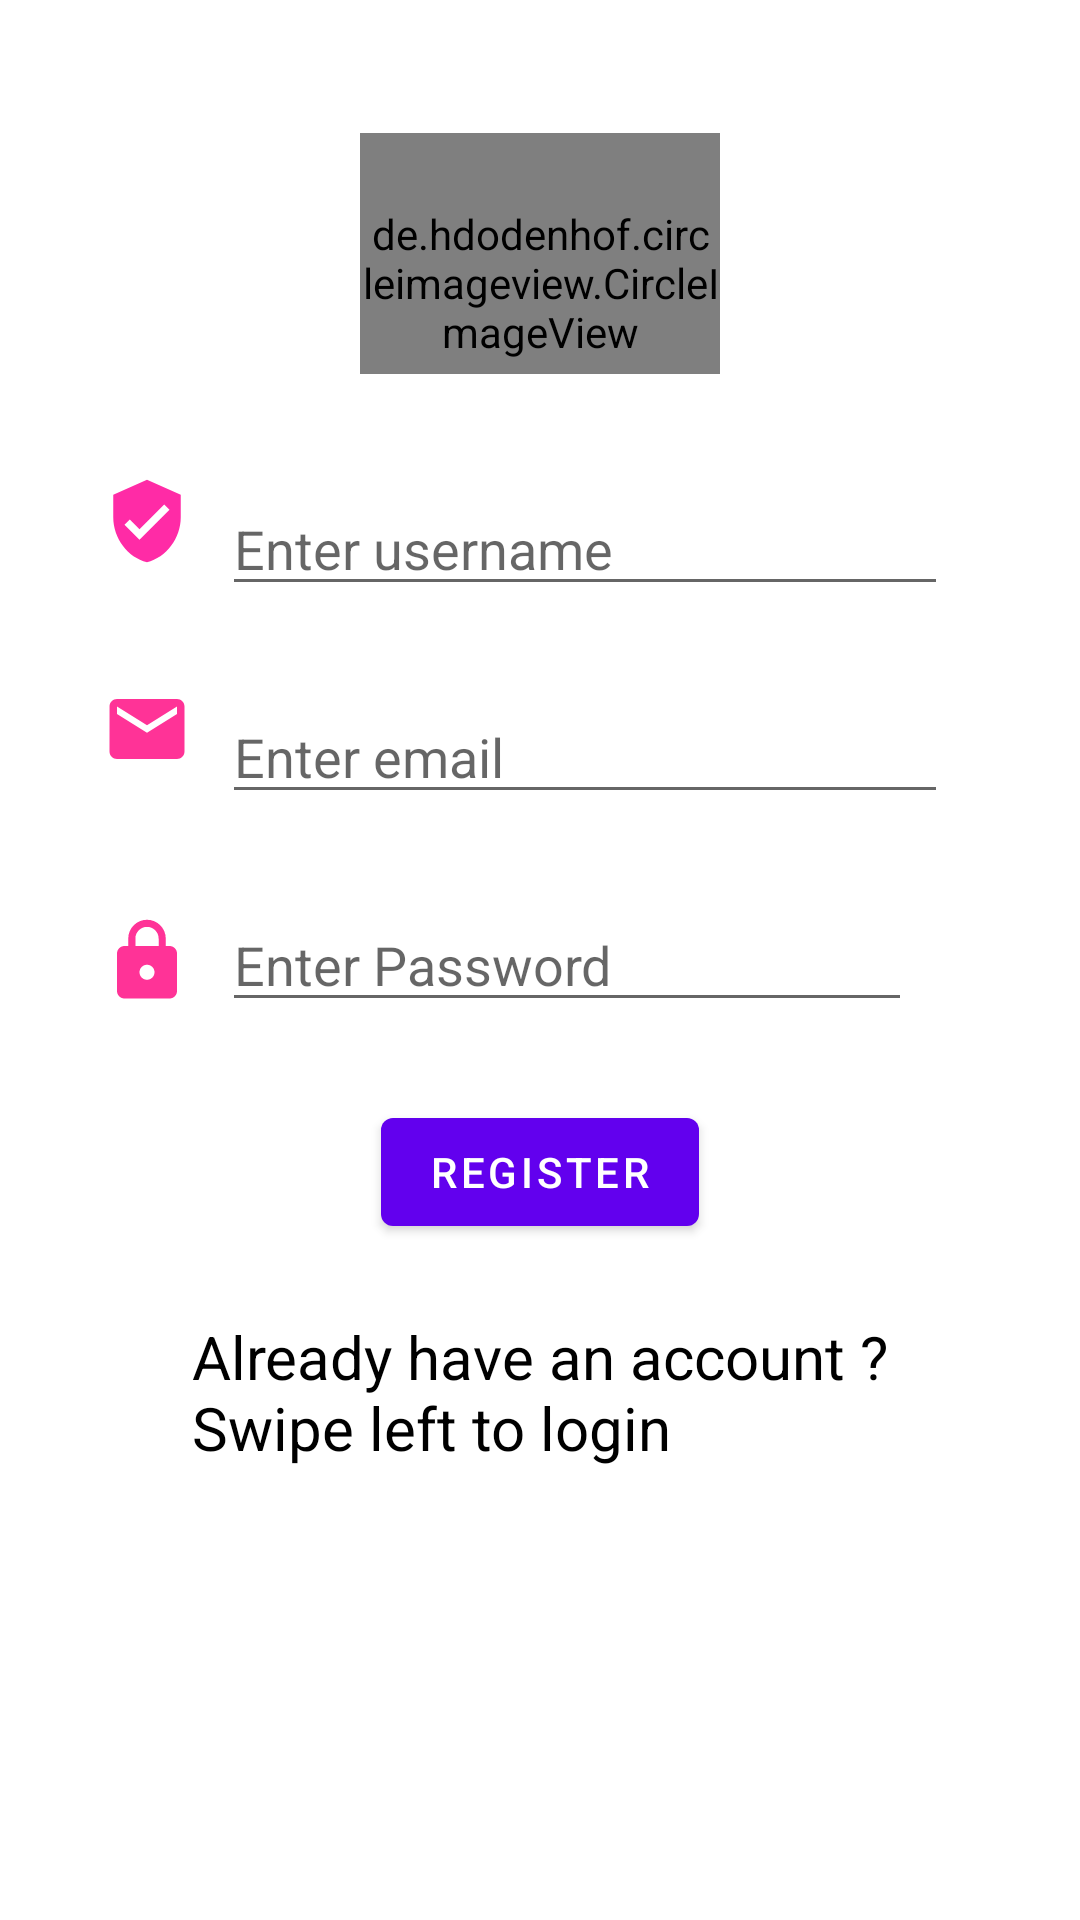

Screen size 1080*1920. Icon name, then its box in pixels as {"left": x1, "top": y1, "right": x2, "bottom": y2}:
lock: {"left": 117, "top": 919, "right": 177, "bottom": 999}
verified user: {"left": 113, "top": 480, "right": 181, "bottom": 562}
